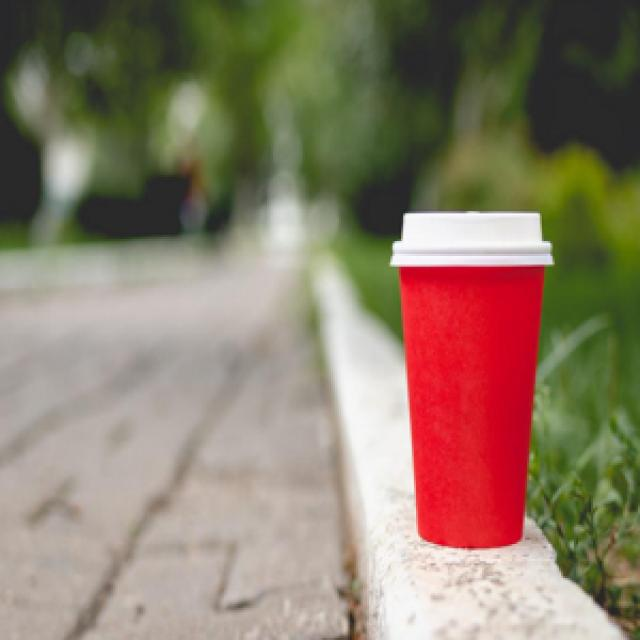plastic cup: (382, 205, 552, 552)
